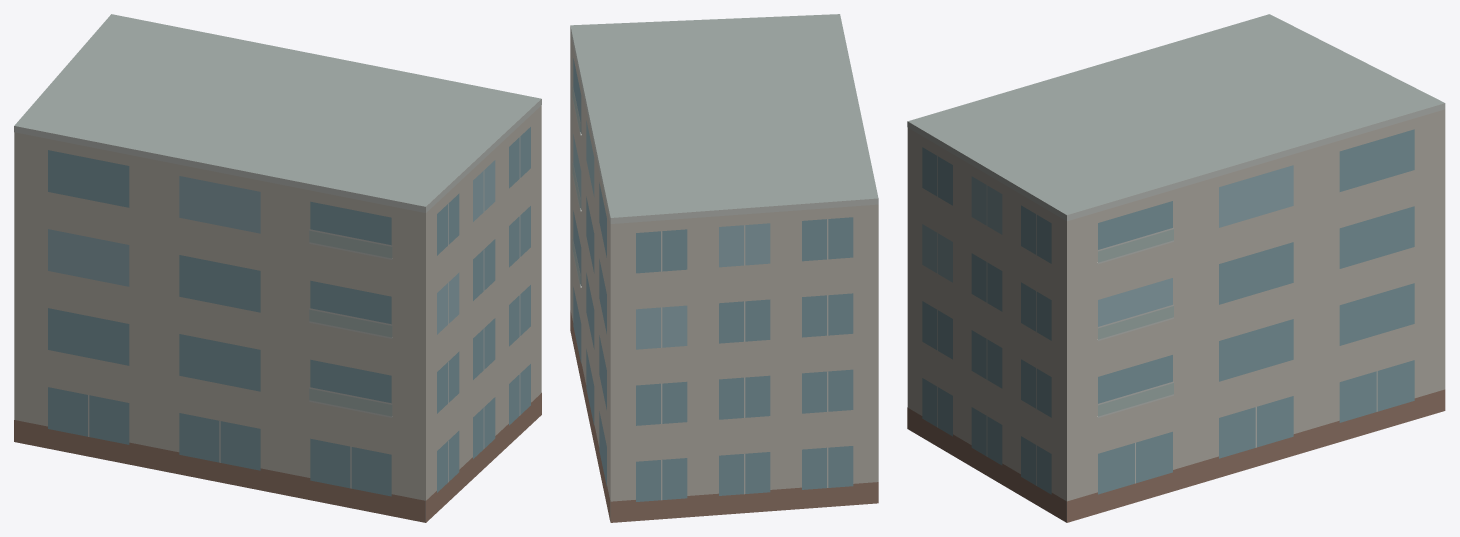
Rendered from survey-upis-32584822.glb.
3 renders of one model, left to right at view 1: azimuth 30°, elevation 25°; view 2: azimuth 150°, elevation 25°; view 3: azimuth 270°, elevation 25°, orthographic. The views are drawn at different scales.
Parts seen in each view (by area): view 1: survey-upis-32584822.tmp; view 2: survey-upis-32584822.tmp; view 3: survey-upis-32584822.tmp.
Boxes of the visible parts, box(x1,y1,x2,y2) form: survey-upis-32584822.tmp: box(14, 14, 541, 522); survey-upis-32584822.tmp: box(570, 14, 878, 522); survey-upis-32584822.tmp: box(907, 14, 1445, 522).
Bounding box in the file's own units: 17.12 × 12.2 × 19.33.
